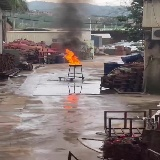fire: (65, 49, 81, 64)
